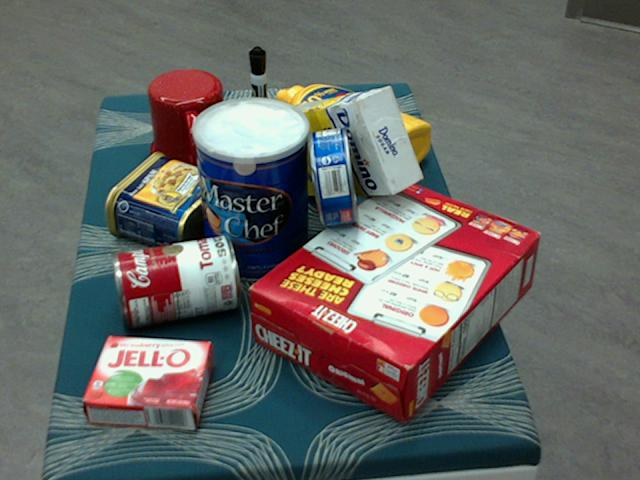cracker_box: (248, 176, 541, 421)
gelatin_box: (82, 334, 213, 429)
large_marker: (248, 46, 269, 150)
master_chef_can: (191, 99, 309, 284)
mug: (147, 70, 232, 171)
mustard_bottle: (275, 83, 430, 182)
potted_meat_can: (104, 152, 231, 253)
sugar_box: (268, 87, 422, 195)
tomato_soup_can: (110, 236, 238, 326)
tuna_fish_can: (309, 125, 359, 224)
